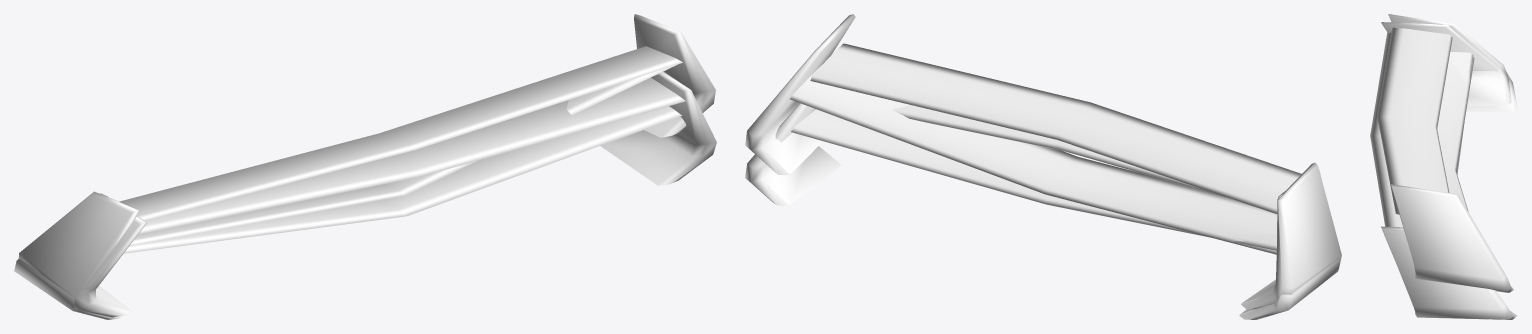
Rendered from spl_a_u_b.glb.
3 renders of one model, left to right at view 1: azimuth 30°, elevation 25°; view 2: azimuth 150°, elevation 25°; view 3: azimuth 270°, elevation 25°, orthographic. The views are drawn at different scales.
Parts seen in each view (by area): view 1: spl_a_u_b, spl_a_u_b_dam; view 2: spl_a_u_b_dam, spl_a_u_b; view 3: spl_a_u_b_dam, spl_a_u_b.
Boxes of the visible parts, bbox=[...] form: spl_a_u_b: bbox=[14, 71, 716, 319]; spl_a_u_b_dam: bbox=[18, 14, 715, 317]; spl_a_u_b_dam: bbox=[745, 14, 1341, 309]; spl_a_u_b: bbox=[745, 103, 1341, 319]; spl_a_u_b_dam: bbox=[1377, 14, 1513, 292]; spl_a_u_b: bbox=[1370, 22, 1517, 319].
Size of the model in its own units: 1.9 by 0.4734 by 0.4898.
1 material, 1 textured.
